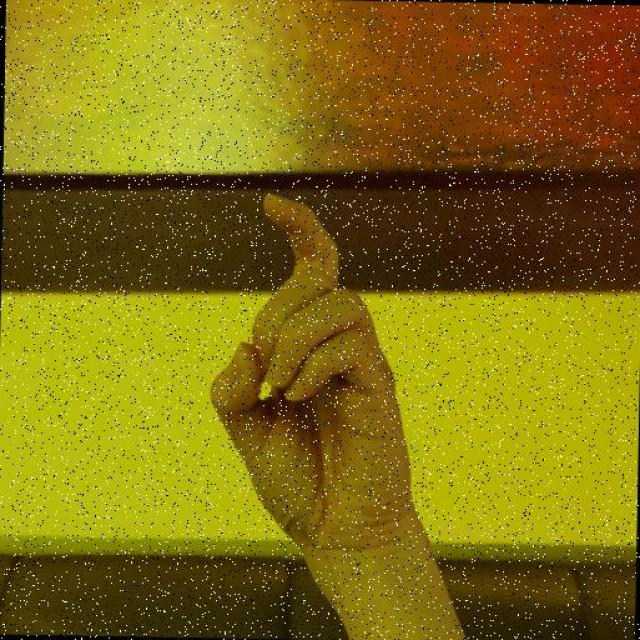X: (203, 188, 416, 537)
